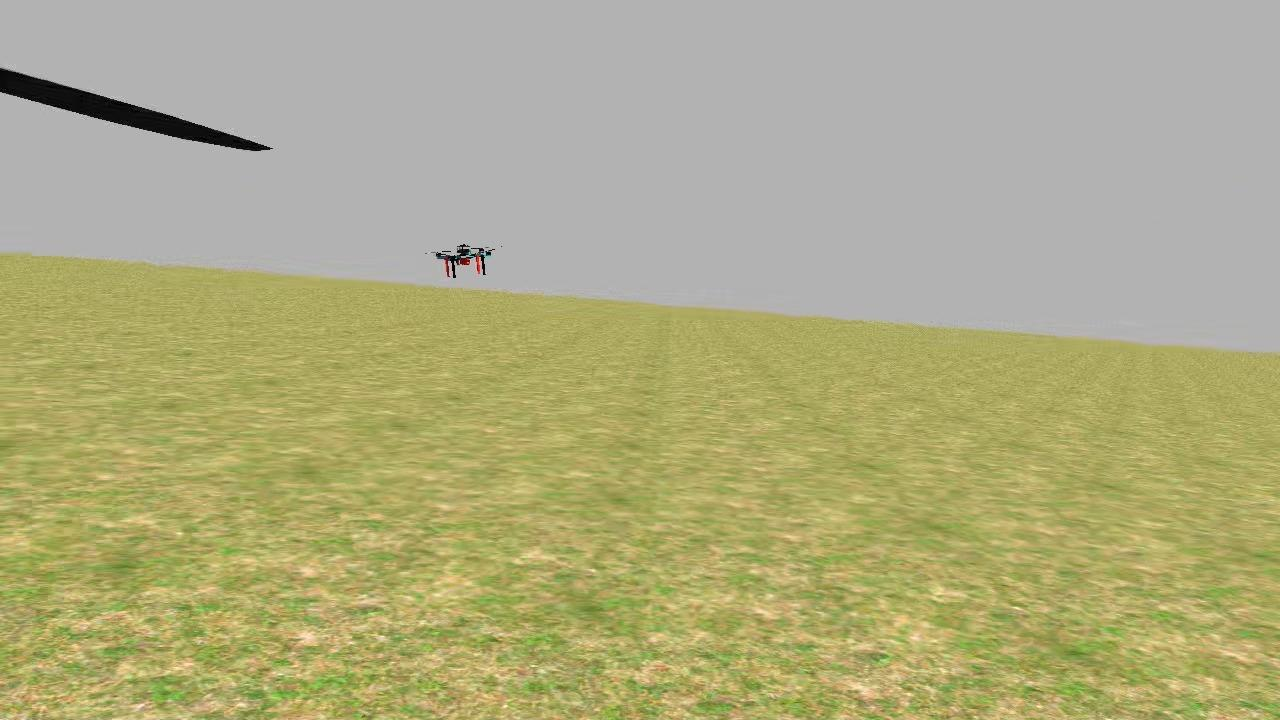UAV: (429, 232, 498, 284)
